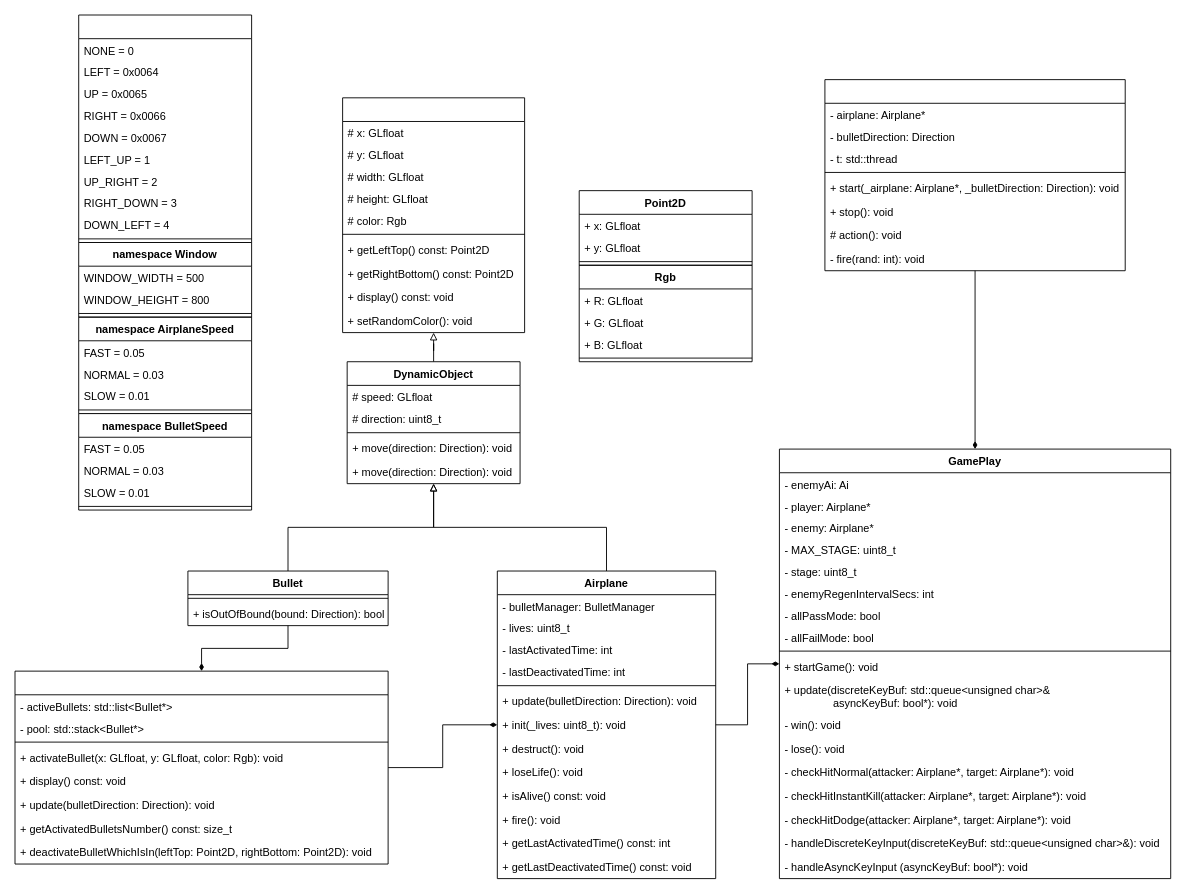
Image size: 1186x894. Some labels were removed from this diagram. The box of each missing label's shape, as (x1, y1, x2, y2) in pixels:
Ai: (824, 79, 1125, 271)
BulletManager: (14, 670, 388, 864)
enum Direction: (78, 14, 252, 243)
Rectangle: (342, 97, 525, 333)
